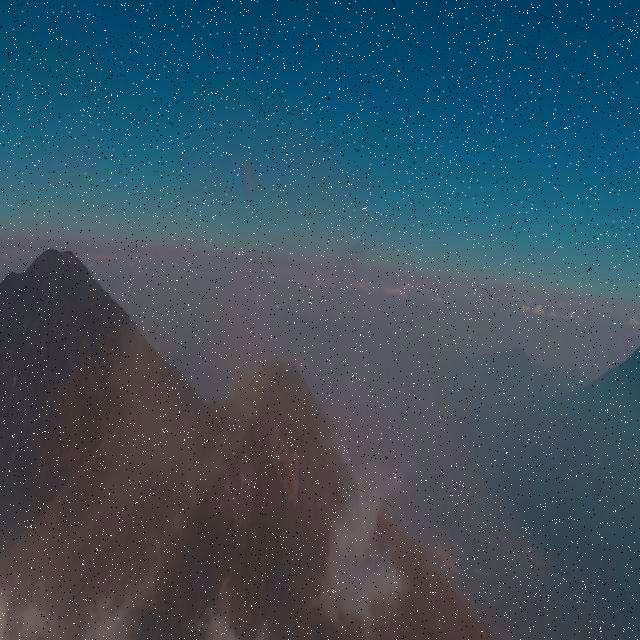Summit: (202, 352, 372, 528)
